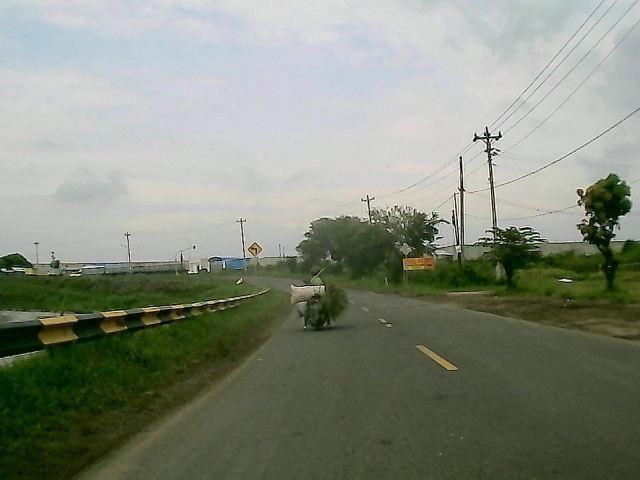Tikungan tajam ke kiri: (247, 239, 264, 256)
